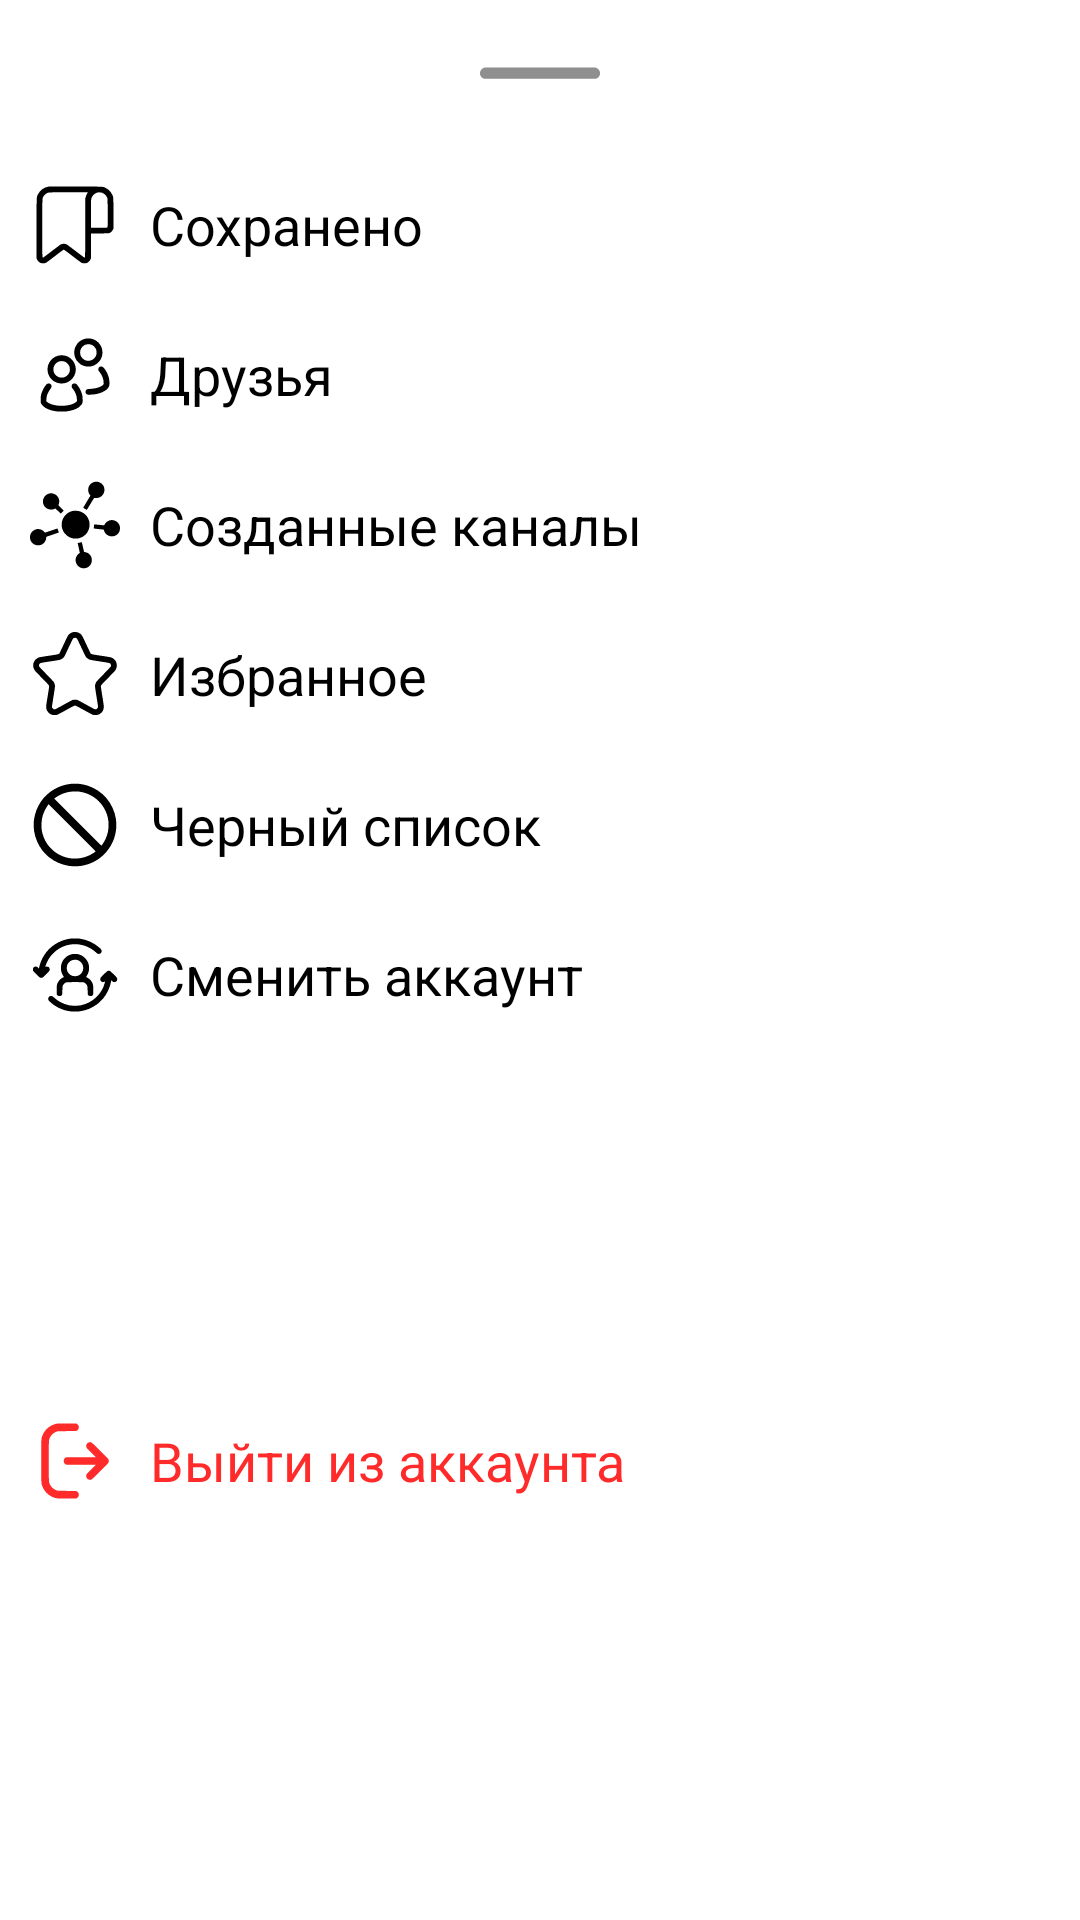

Icons on this 1080px x 1920px Android screen, each with the point to tap as [x,y]:
ban: [75,825]
bookmark: [75,225]
change account: [75,975]
channel: [75,525]
favorite: [75,673]
log out: [75,1461]
